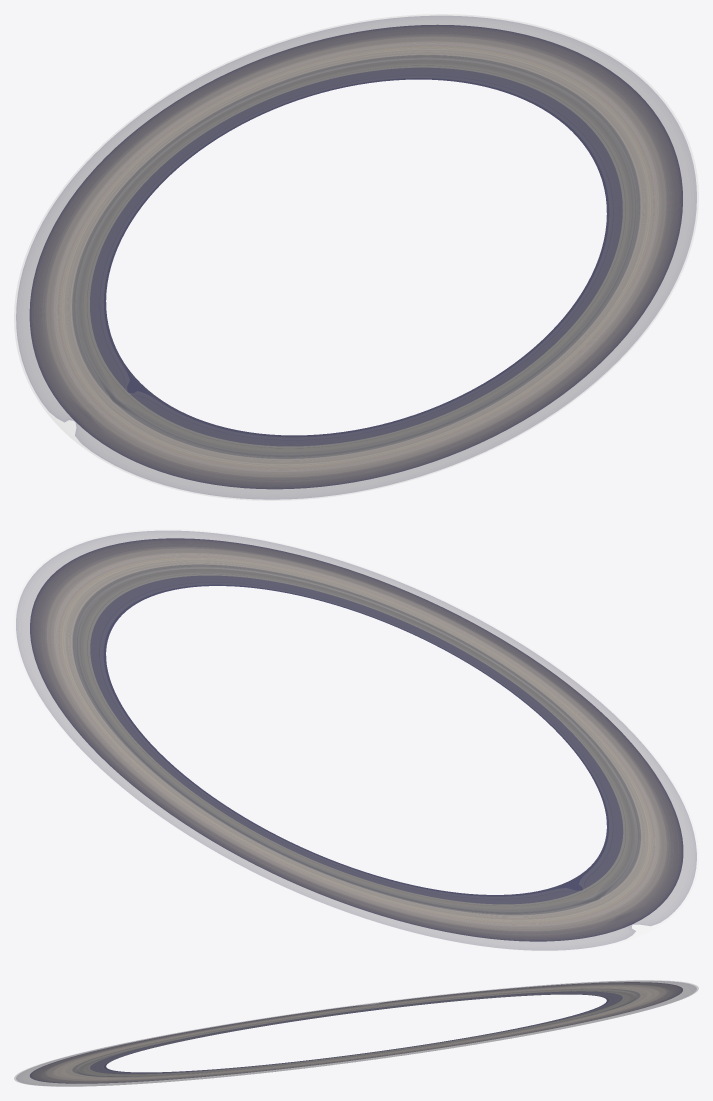
File: saturnring.gltf
3 renders of one model, top to bottom at view 1: azimuth 30°, elevation 25°; view 2: azimuth 150°, elevation 25°; view 3: azimuth 270°, elevation 25°, orthographic. The views are drawn at different scales.
Parts seen in each view (by area): view 1: saturn_ring_18; view 2: saturn_ring_18; view 3: saturn_ring_18.
Boxes of the visible parts, x1=… form: saturn_ring_18: x1=14, y1=14, x2=698, y2=500; saturn_ring_18: x1=14, y1=529, x2=698, y2=951; saturn_ring_18: x1=14, y1=980, x2=698, y2=1086.
Size of the model in its own units: 7.3 by 2.86 by 7.71.
1 material, 1 textured.
